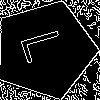L: (20, 24, 74, 65)
